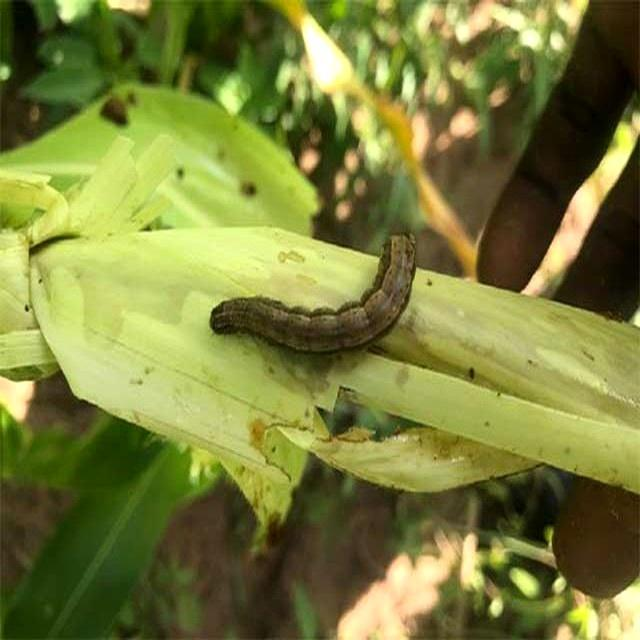Plaga: (209, 227, 419, 359)
